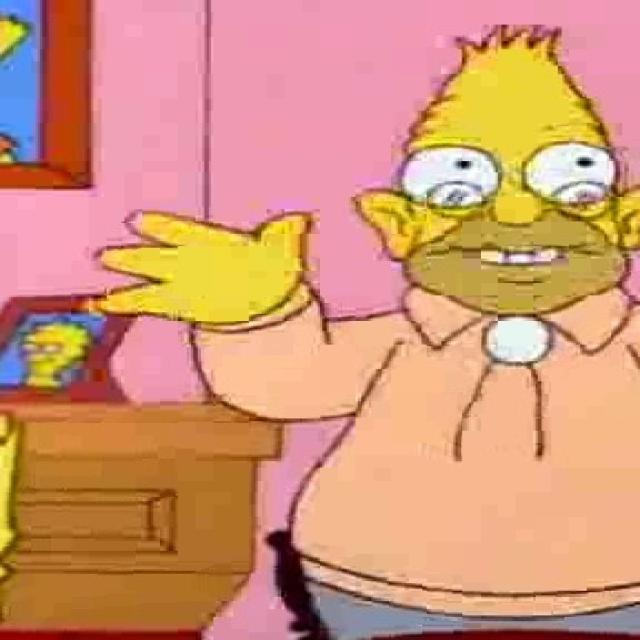Abraham Grampa Simpson: (351, 24, 640, 321)
